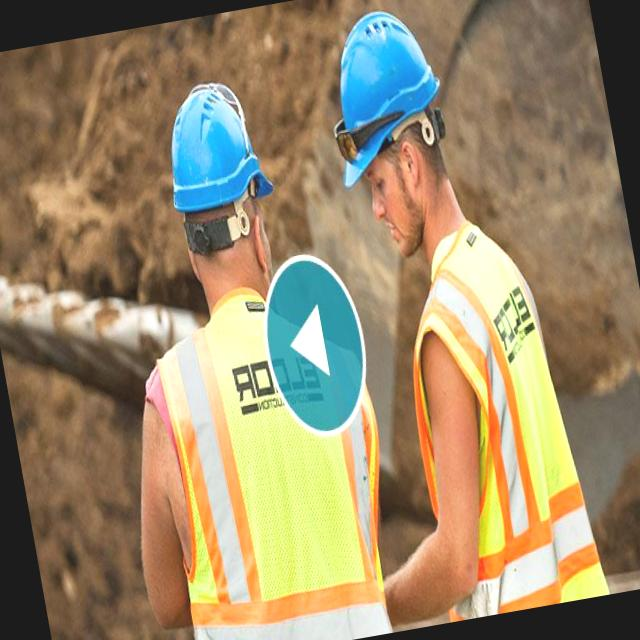helmet: (311, 0, 458, 190), (155, 82, 281, 235)
no-goggles: (356, 142, 424, 212)
vest: (137, 275, 399, 640), (385, 216, 600, 622)
